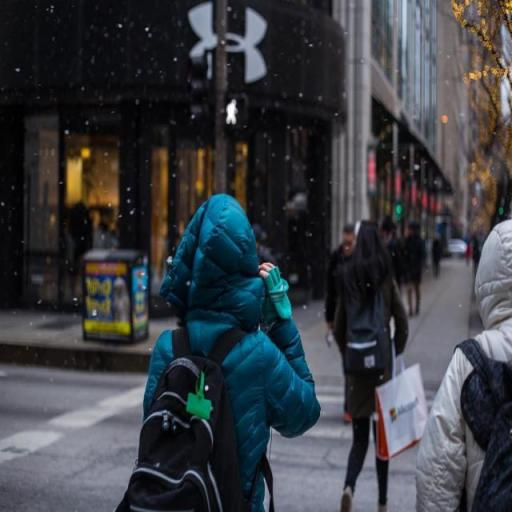Under Armour: (184, 0, 270, 88)
